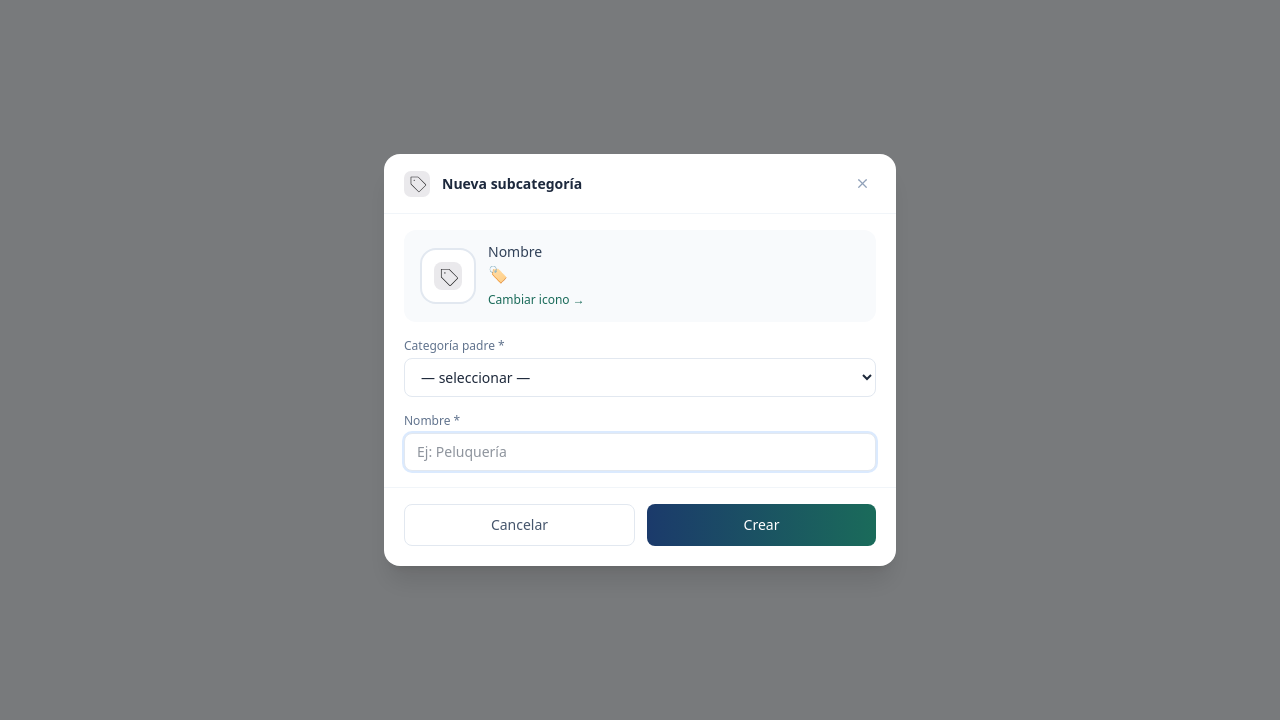
it: NuevoItemModal — subcategoría › sin categoría padre seleccionada → error sin POST
Step 1. Type "Test sub" into the field with placeholder "Ej: Peluquería" → (640, 452), box 404,433 -> 876,471
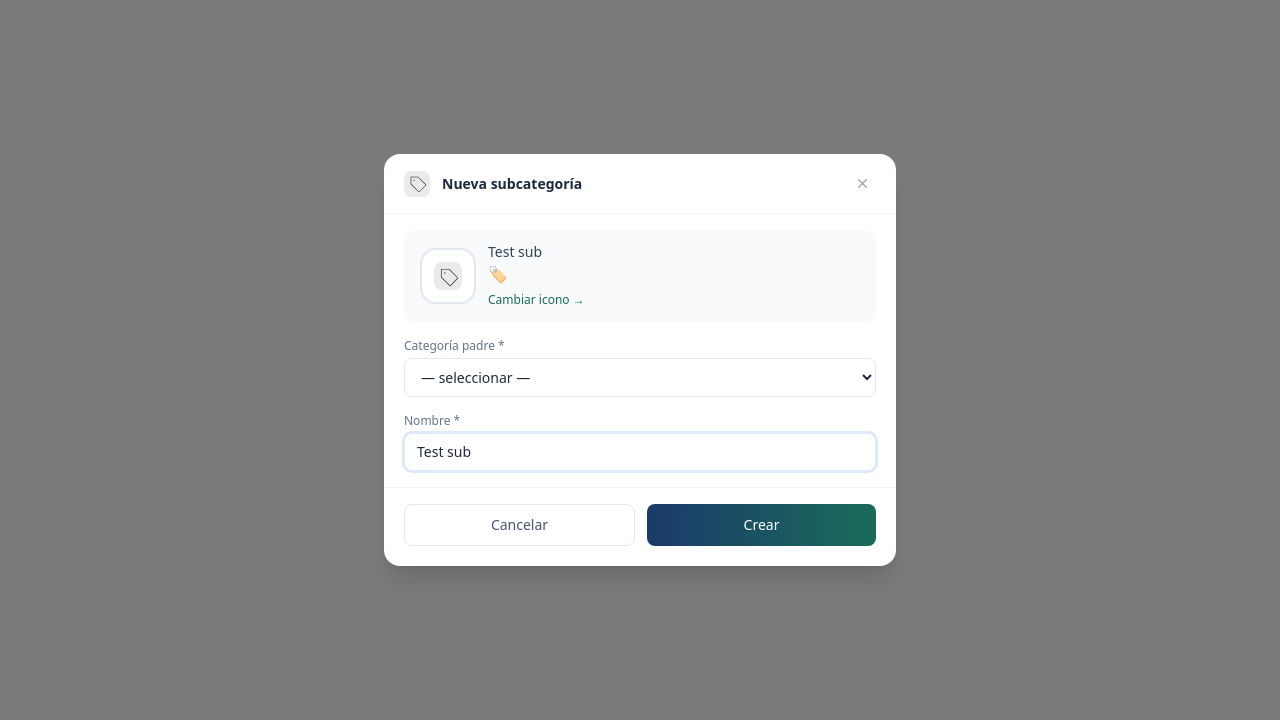
Step 2. Click the button "Crear" → (762, 525), box 647,504 -> 876,546
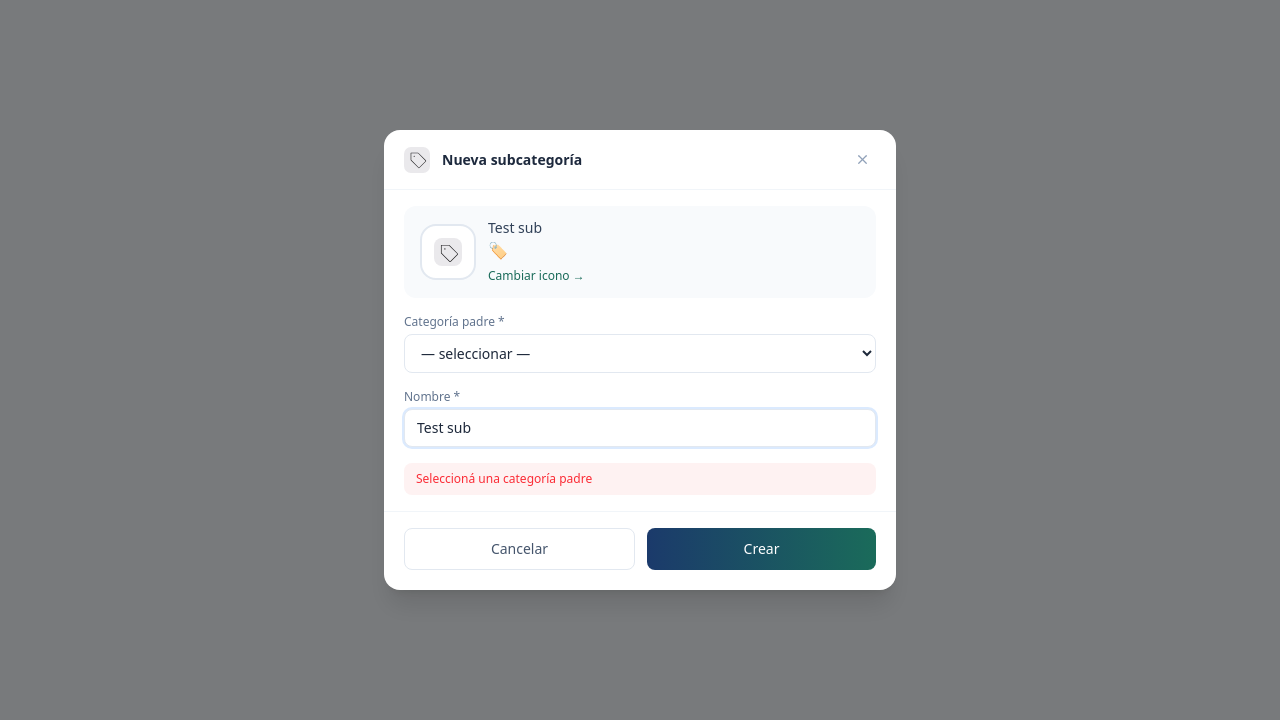
Result: the text "Seleccioná una categoría padre" is shown at 404,463 -> 876,495
